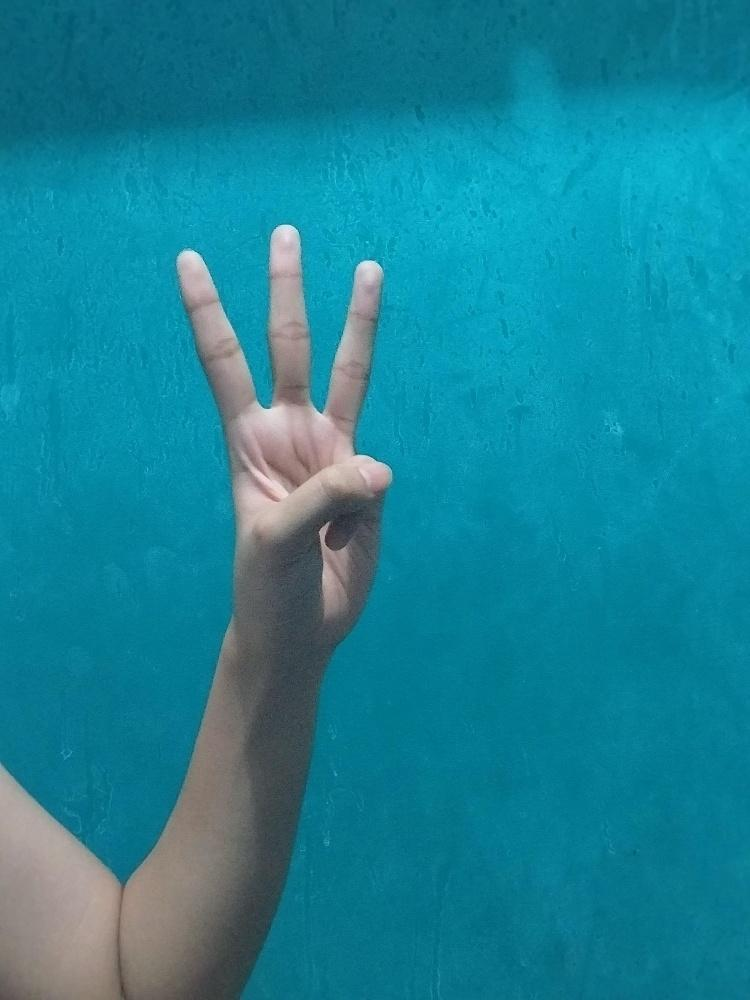w: (170, 223, 393, 641)
